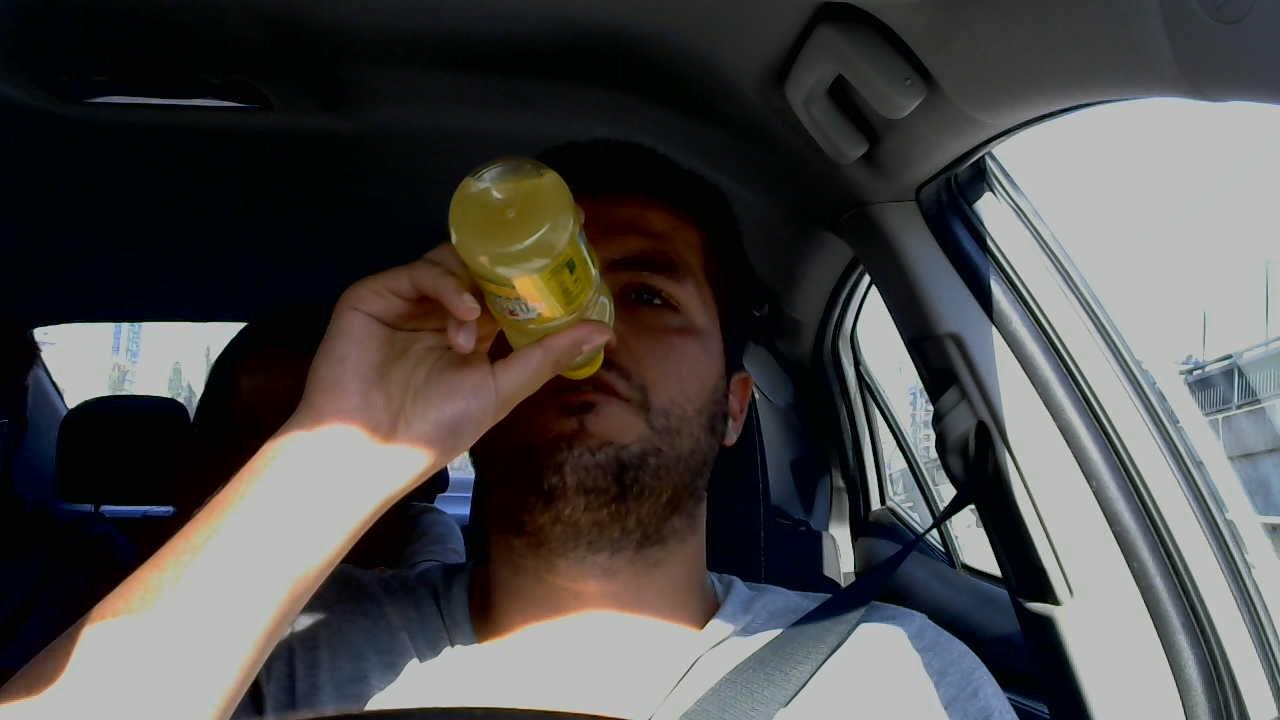Drinking: (422, 151, 753, 502)
